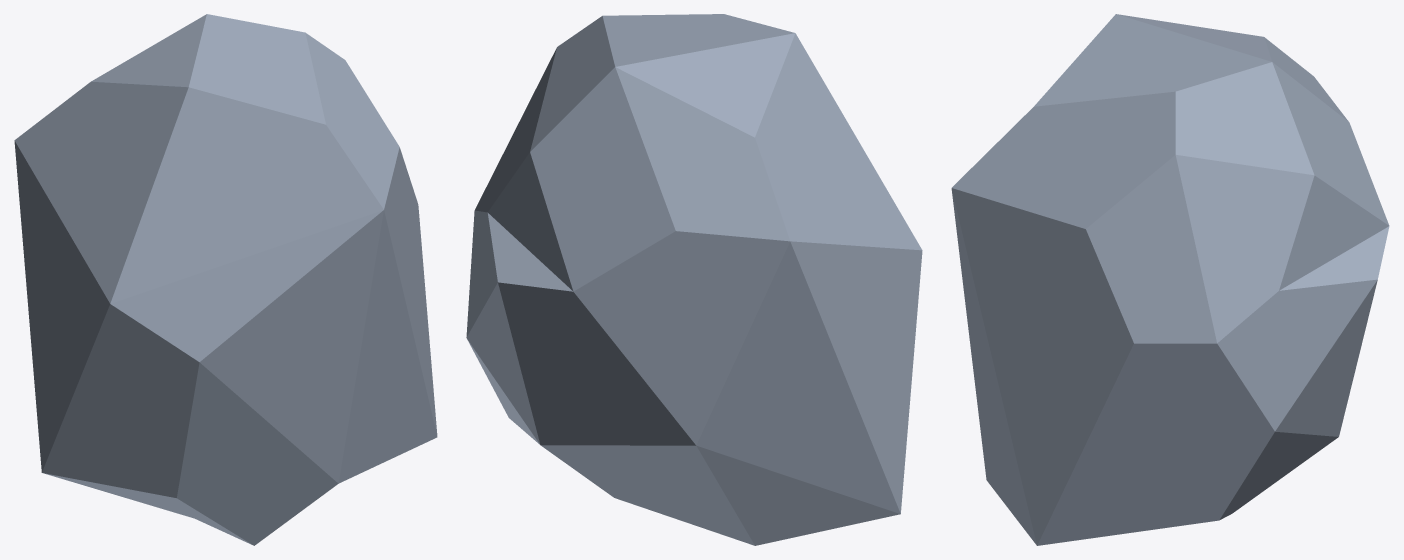
The model's file is rock.fbx.
3 views of the same model, side by side, from view 1: azimuth 30°, elevation 25°; view 2: azimuth 150°, elevation 25°; view 3: azimuth 270°, elevation 25° (orthographic). The views are drawn at different scales.
Visible parts, largest first — view 1: Icosphere; view 2: Icosphere; view 3: Icosphere.
Boxes of the visible parts, bbox=[...] form: Icosphere: bbox=[14, 14, 437, 545]; Icosphere: bbox=[466, 14, 922, 545]; Icosphere: bbox=[951, 14, 1389, 545].
Bounding box in the file's own units: 174 × 208 × 166.
